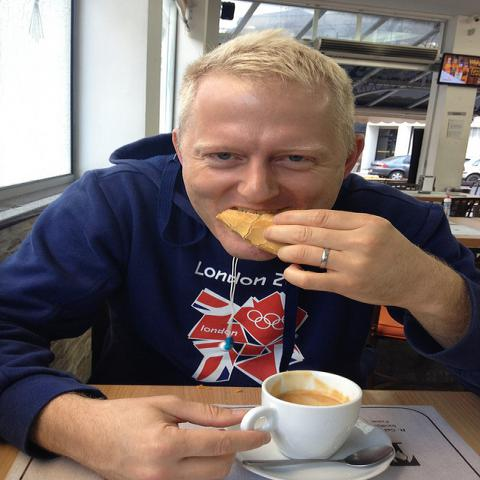car: (368, 155, 411, 180)
